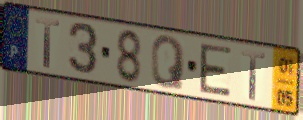3: (66, 21, 101, 77)
8: (115, 28, 144, 85)
E: (198, 42, 234, 99)
Q: (150, 34, 187, 93)
T: (240, 48, 268, 103), (35, 16, 62, 70)
